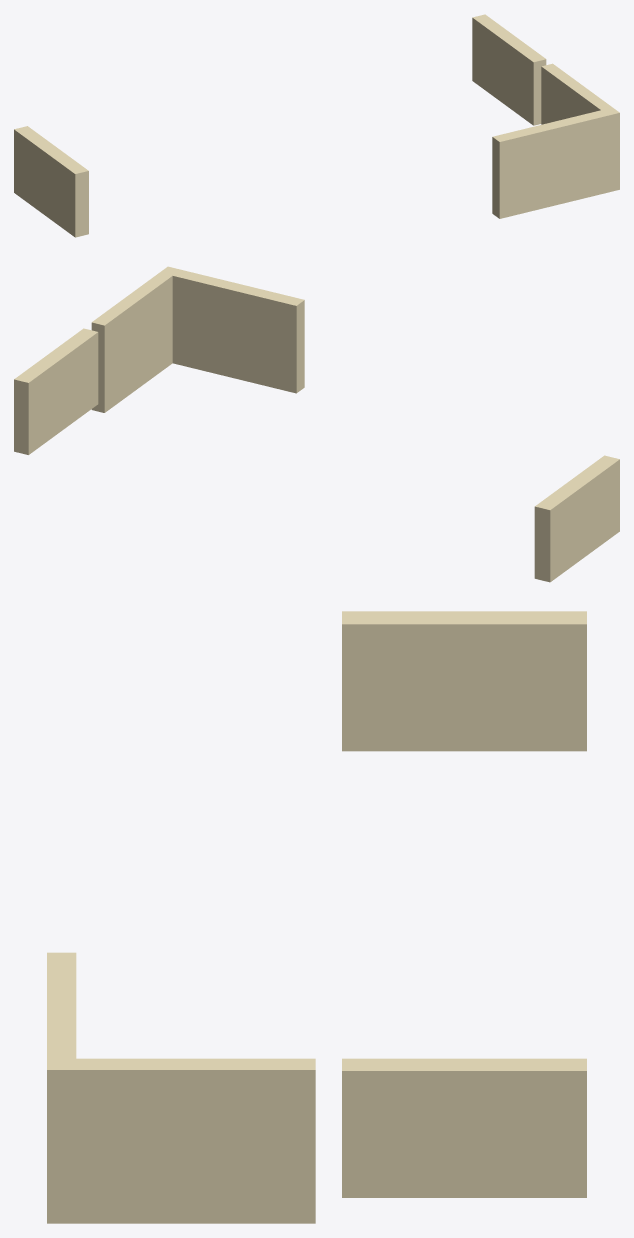
File: veranda walls.fbx
The picture shows the model from 3 angles, top to bottom: view 1: azimuth 30°, elevation 25°; view 2: azimuth 150°, elevation 25°; view 3: azimuth 270°, elevation 25°; orthographic projection. The views are drawn at different scales.
Parts seen in each view (by area): view 1: muretto_a_L, muretto1, muretto2; view 2: muretto_a_L, muretto1, muretto2; view 3: muretto_a_L, muretto1, muretto2.
Part boxes in pixels (bbox=[...]): muretto_a_L: bbox=[492, 63, 619, 218]; muretto1: bbox=[14, 126, 88, 237]; muretto2: bbox=[472, 14, 546, 125]; muretto_a_L: bbox=[91, 266, 304, 412]; muretto1: bbox=[534, 455, 619, 582]; muretto2: bbox=[14, 328, 98, 454]; muretto_a_L: bbox=[47, 952, 315, 1223]; muretto1: bbox=[342, 611, 586, 751]; muretto2: bbox=[342, 1058, 586, 1197].
Size of the model in its own units: 622 by 97.02 by 309.
